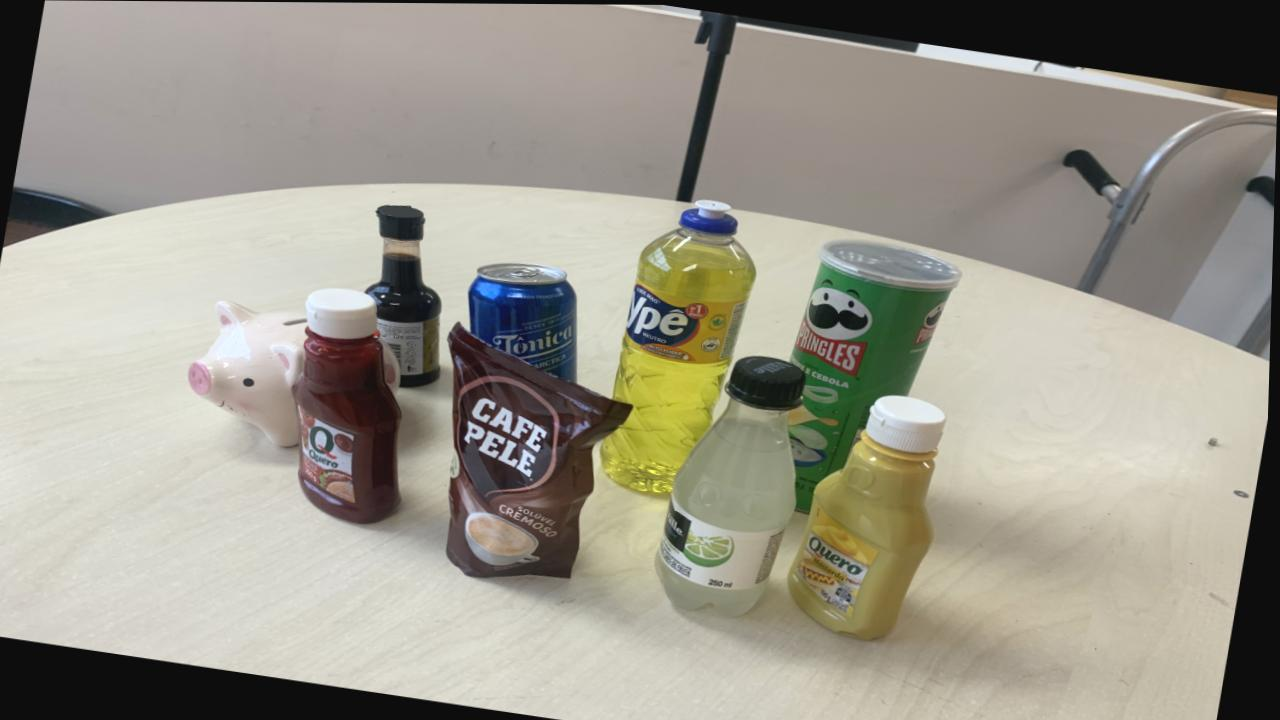Coffee-Pantry_Items: (449, 323, 635, 577)
Detergent-Cleanup_Items: (602, 199, 758, 492)
English_Sauce-Pantry_Items: (366, 203, 443, 386)
Ketchup-Pantry_Items: (294, 287, 404, 523)
Mustard-Pantry_Items: (791, 393, 949, 638)
Pig_Safe-Miscellaneous: (189, 300, 308, 446)
Pringles-Snacks: (791, 237, 963, 509)
Soda-Drinks: (657, 354, 807, 615)
Tonic-Drinks: (469, 261, 580, 380)
